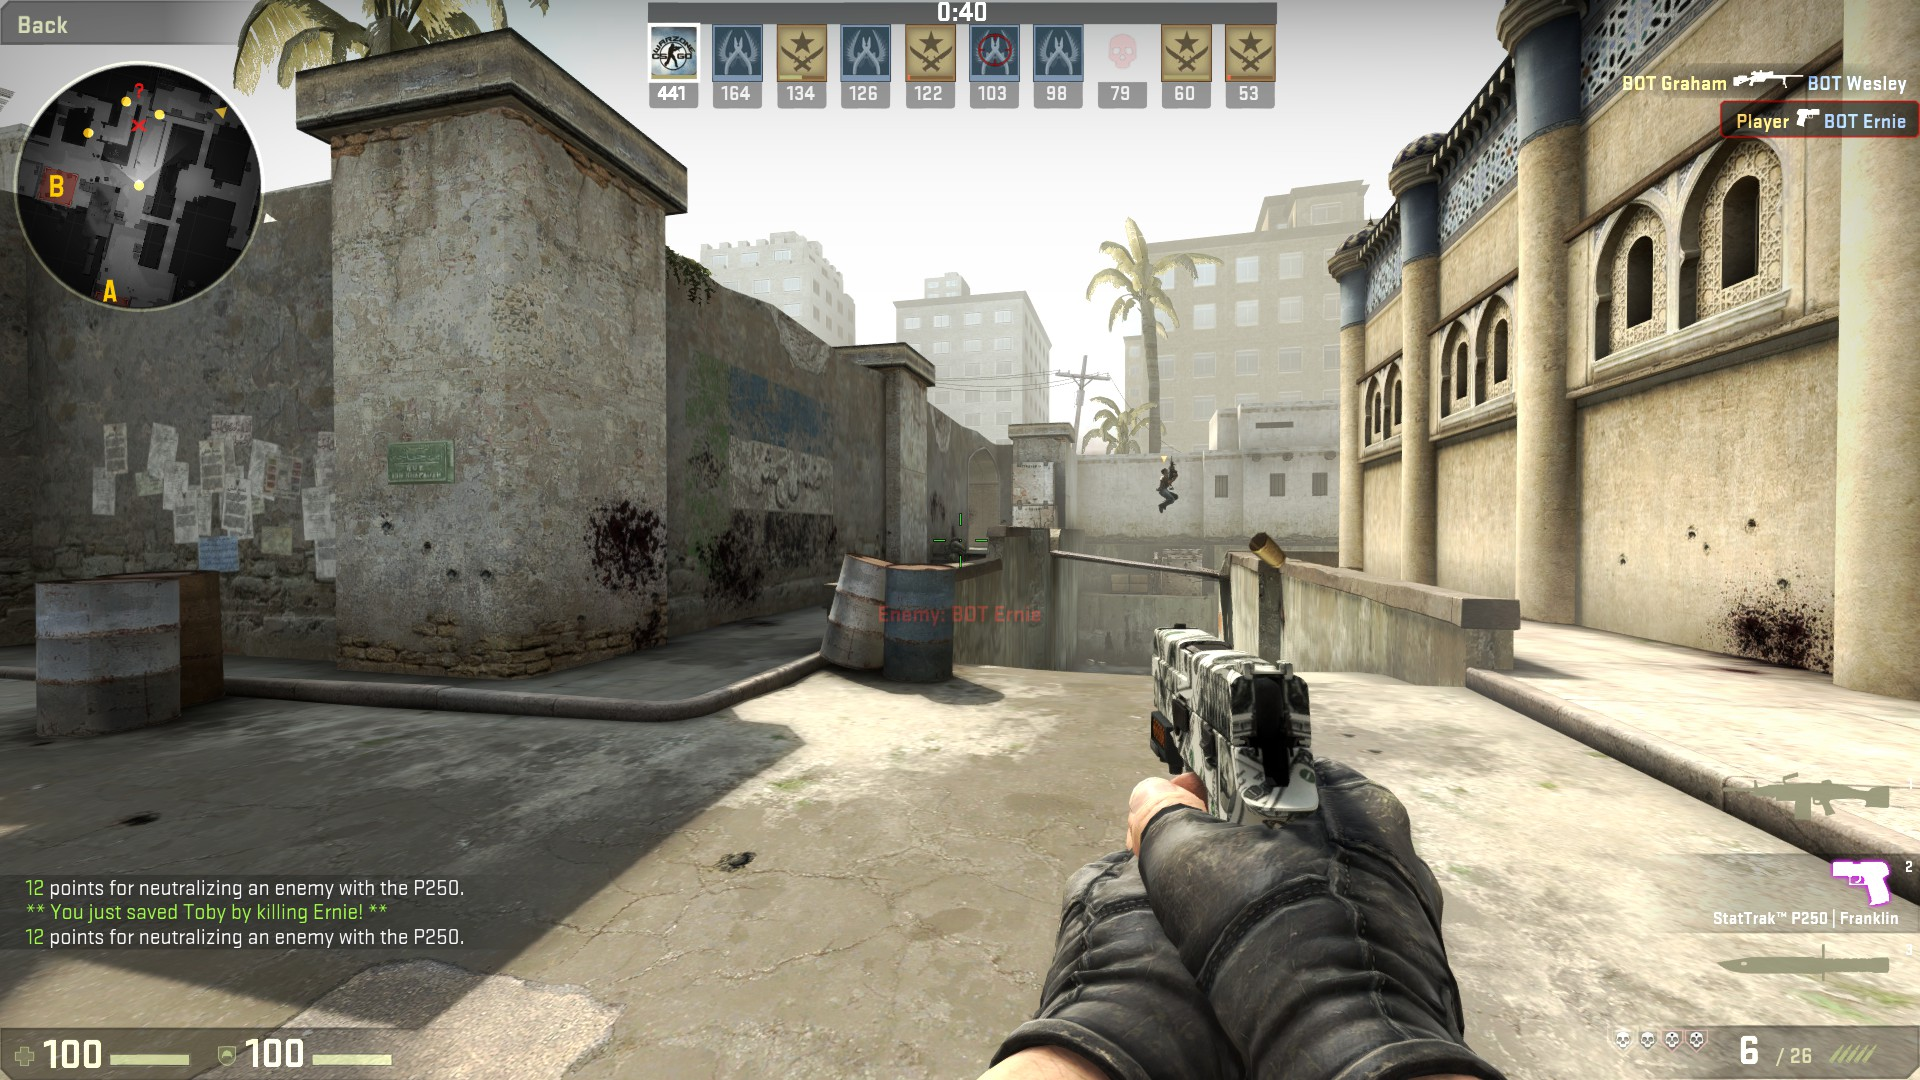t: (1156, 469, 1176, 512)
th: (1160, 467, 1170, 477)
